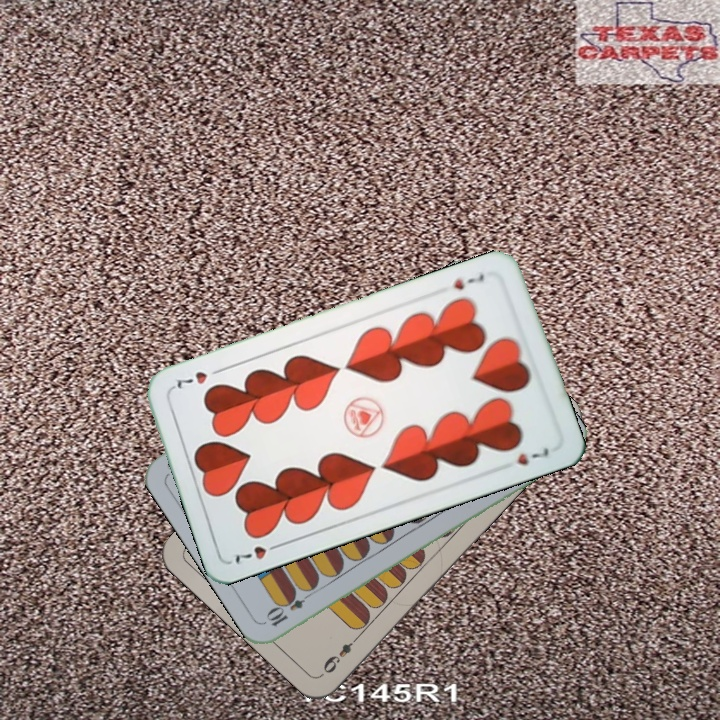E10: (263, 586, 316, 629)
E9: (319, 630, 363, 677)
H7: (231, 538, 286, 568), (449, 269, 487, 293)
